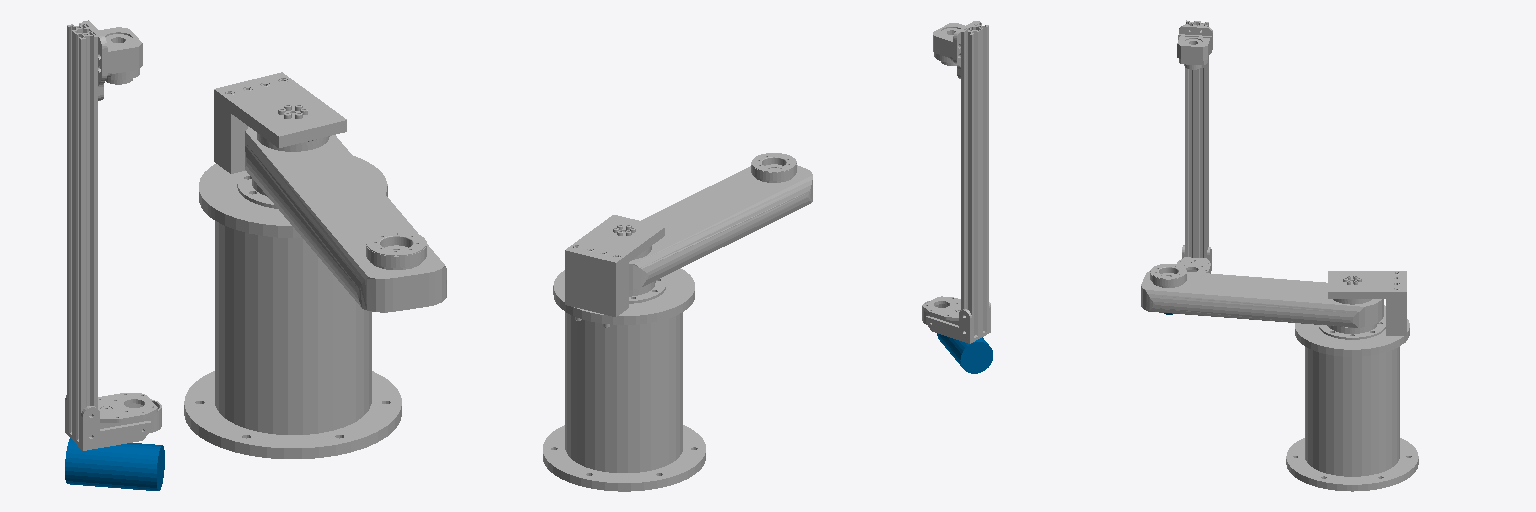
URDF robot description (scaraiit):
<?xml version="1.0" encoding="utf-8" ?>
<!-- This URDF was automatically created by SolidWorks to URDF Exporter! Originally created by [author] ([email redacted]) 
     Commit Version: 1.5.1-0-g916b5db  Build Version: 1.5.7152.31018
     For more information, please see http://wiki.ros.org/sw_urdf_exporter -->
<robot name="scaraiit">
    <link name="base_link">
        
<inertial>
            <origin xyz="-0.024844 -0.012773 0.34999" rpy="0 0 0" />
            <mass value="15.652" />
            <inertia ixx="0.077426" ixy="1.6502E-15" ixz="-3.9864E-16" iyy="0.08833" iyz="9.4391E-06" izz="0.07706" />
        </inertial>

        <visual>
            <origin xyz="0 0 0" rpy="0 0 0" />
            <geometry>
                <mesh filename="package://scaraiit/meshes/base_link.STL" />
            </geometry>
            <material name="">
                <color rgba="0.75294 0.75294 0.75294 1" />
            </material>
        </visual>
        <collision>
            <origin xyz="0 0 0" rpy="0 0 0" />
            <geometry>
                <mesh filename="package://scaraiit/meshes/base_link.STL" />
            </geometry>
        </collision>
    </link>
    <link name="humero">
        
<inertial>
            <origin xyz="1.0851E-08 0.048114 0.14266" rpy="0 0 0" />
            <mass value="5" />
            <inertia ixx="0.019084" ixy="-1.4804E-10" ixz="-2.2963E-09" iyy="0.020036" iyz="-0.00043182" izz="0.0013447" />
        </inertial>

        <visual>
            <origin xyz="0 0 0" rpy="0 0 0" />
            <geometry>
                <mesh filename="package://scaraiit/meshes/humero.STL" />
            </geometry>
            <material name="">
                <color rgba="0.75294 0.75294 0.75294 1" />
            </material>
        </visual>
        <collision>
            <origin xyz="0 0 0" rpy="0 0 0" />
            <geometry>
                <mesh filename="package://scaraiit/meshes/humero.STL" />
            </geometry>
        </collision>
    </link>
    <joint name="hombro" type="revolute">
        <origin xyz="-0.024844 -0.36049 0.067842" rpy="1.5708 0 -0.18107" />
        <parent link="base_link" />
        <child link="humero" />
        <axis xyz="0 1 0" />
        <limit lower="-1.54" upper="1.85" effort="35" velocity="4" />
    </joint>
    <link name="rc">
        
<inertial>
            <origin xyz="6.9227E-07 0.15158 0.13901" rpy="0 0 0" />
            <mass value="15" />
            <inertia ixx="0.011379" ixy="1.7481E-08" ixz="-5.0618E-08" iyy="0.007139" iyz="-0.0017743" izz="0.0062172" />
        </inertial>

        <visual>
            <origin xyz="0 0 0" rpy="0 0 0" />
            <geometry>
                <mesh filename="package://scaraiit/meshes/rc.STL" />
            </geometry>
            <material name="">
                <color rgba="0.75294 0.75294 0.75294 1" />
            </material>
        </visual>
        <collision>
            <origin xyz="0 0 0" rpy="0 0 0" />
            <geometry>
                <mesh filename="package://scaraiit/meshes/rc.STL" />
            </geometry>
        </collision>
    </link>
    <joint name="codo" type="revolute">
        <origin xyz="0 0.0375 0.33" rpy="0 -1.5265 0" />
        <parent link="humero" />
        <child link="rc" />
        <axis xyz="0 1 0" />
        <limit lower="-0.6" upper="3.6" effort="35" velocity="4" />
    </joint>
    <link name="zeta">
        
<inertial>
            <origin xyz="-0.011881 0.12518 -0.016578" rpy="0 0 0" />
            <mass value="2" />
            <inertia ixx="0.0028275" ixy="3.4325E-06" ixz="2.9995E-10" iyy="0.00010967" iyz="9.9633E-12" izz="0.0028174" />
        </inertial>

        <visual>
            <origin xyz="0 0 0" rpy="0 0 0" />
            <geometry>
                <mesh filename="package://scaraiit/meshes/zeta.STL" />
            </geometry>
            <material name="">
                <color rgba="0.75294 0.75294 0.75294 1" />
            </material>
        </visual>
        <collision>
            <origin xyz="0 0 0" rpy="0 0 0" />
            <geometry>
                <mesh filename="package://scaraiit/meshes/zeta.STL" />
            </geometry>
        </collision>
    </link>
    <joint name="pris" type="prismatic">
        <origin xyz="0.016578 0 0.33289" rpy="0 1.5708 0" />
        <parent link="rc" />
        <child link="zeta" />
        <axis xyz="0 1 0" />
        <limit lower="-0.105" upper="0.1" effort="70" velocity="2" />
    </joint>
    <link name="puntita">
        <visual>
            <geometry>
                <cylinder length="0.1" radius="0.025" />
            </geometry>
        </visual>
    </link>
    <joint name="end" type="fixed">
        <origin xyz="0 -0.15 0" rpy="0 1 0" />
        <parent link="zeta" />
        <child link="puntita" />
    </joint>
    
<transmission name="trans_hombro">
        <type>transmission_interface/SimpleTransmission</type>
        <joint name="hombro">
            <hardwareInterface>hardware_interface/EffortJointInterface</hardwareInterface>
        </joint>
        <actuator name="hombro_motor">
            <hardwareInterface>hardware_interface/EffortJointInterface</hardwareInterface>
            <mechanicalReduction>1</mechanicalReduction>
        </actuator>
    </transmission>
    <transmission name="trans_codo">
        <type>transmission_interface/SimpleTransmission</type>
        <joint name="codo">
            <hardwareInterface>hardware_interface/EffortJointInterface</hardwareInterface>
        </joint>
        <actuator name="codo_motor">
            <hardwareInterface>hardware_interface/EffortJointInterface</hardwareInterface>
            <mechanicalReduction>1</mechanicalReduction>
        </actuator>
    </transmission>
    <transmission name="trans_pris">
        <type>transmission_interface/SimpleTransmission</type>
        <joint name="pris">
            <hardwareInterface>hardware_interface/EffortJointInterface</hardwareInterface>
        </joint>
        <actuator name="pris_motor">
            <hardwareInterface>hardware_interface/EffortJointInterface</hardwareInterface>
            <mechanicalReduction>1</mechanicalReduction>
        </actuator>
    </transmission>
    <gazebo>
        <plugin name="gazebo_ros_control" filename="libgazebo_ros_control.so">
            <robotNamespace>/</robotNamespace>
        </plugin>
    </gazebo>
</robot>

--- Facts derived from the render (not from the file) ---
Views: 3 orthographic renders of the robot side by side, from view 1: azimuth 30°, elevation 25°; view 2: azimuth 150°, elevation 25°; view 3: azimuth 270°, elevation 25°.
Model scaraiit with 5 links and 4 joints (2 revolute, 1 prismatic, 1 fixed), rooted at base_link, posed every joint at zero.
Links seen in each view (by area): view 1: base_link, humero, zeta, puntita; view 2: base_link, zeta, humero, puntita; view 3: base_link, humero, zeta.
Link boxes in pixels (left/top/right/bottom): base_link: left=184, top=72, right=401, bottom=458; humero: left=245, top=127, right=446, bottom=312; zeta: left=65, top=20, right=161, bottom=450; puntita: left=65, top=438, right=164, bottom=490; base_link: left=543, top=215, right=705, bottom=491; zeta: left=922, top=21, right=990, bottom=343; humero: left=629, top=153, right=812, bottom=289; puntita: left=937, top=333, right=992, bottom=373; base_link: left=1286, top=271, right=1418, bottom=491; humero: left=1141, top=264, right=1383, bottom=327; zeta: left=1177, top=20, right=1212, bottom=273.
Bounding box of the posed robot: 0.5627 × 0.4898 × 0.6619 m (x, y, z).
Meshes: 4 distinct files referenced, 3 mesh visuals loaded (3 binary STL); not drawn: 1 (reference not matched to a file when rendering).
